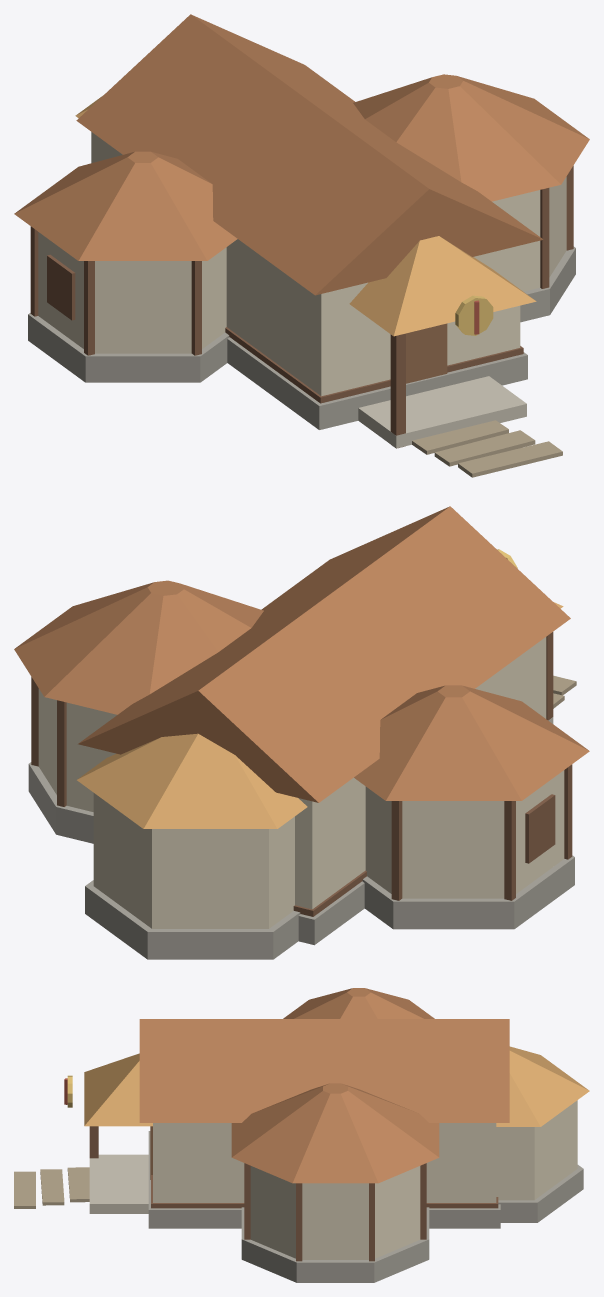
Rendered from C_three_roads.glb.
3 views of the same model, one above another, from view 1: azimuth 30°, elevation 25°; view 2: azimuth 150°, elevation 25°; view 3: azimuth 270°, elevation 25° (orthographic). The views are drawn at different scales.
Visible parts, largest first — view 1: C_CentralNave_GableRoof, C_CentralNave_Plaster, C_ProvisionBay_HippedRoof, C_RecordsBay_HippedRoof, C_RecordsBay_Plaster, C_DiamondEntryRoof, C_CentralNave_StoneBase, C_EntryPlinth, C_RecordsBay_StoneBase, C_ProvisionBay_Plaster, C_Arrival_Door, C_CentralNave_BaseBand (+12 smaller); view 2: C_CentralNave_GableRoof, C_TeachingApse, C_ProvisionBay_HippedRoof, C_RecordsBay_HippedRoof, C_RecordsBay_Plaster, C_TeachingApseRoof, C_CentralNave_Plaster, C_TeachingApseBase, C_RecordsBay_StoneBase, C_ProvisionBay_Plaster, C_ProvisionBay_StoneBase, C_CentralNave_StoneBase (+8 smaller); view 3: C_CentralNave_GableRoof, C_ProvisionBay_HippedRoof, C_CentralNave_Plaster, C_ProvisionBay_Plaster, C_TeachingApse, C_ProvisionBay_StoneBase, C_TeachingApseRoof, C_CentralNave_StoneBase, C_DiamondEntryRoof, C_EntryPlinth, C_RecordsBay_HippedRoof, C_TeachingApseBase (+8 smaller).
Part boxes in pixels (box(x1,y1,x2,y2)): C_CentralNave_GableRoof: box(76, 14, 543, 295); C_CentralNave_Plaster: box(99, 138, 520, 396); C_ProvisionBay_HippedRoof: box(353, 74, 589, 201); C_RecordsBay_HippedRoof: box(14, 151, 237, 260); C_RecordsBay_Plaster: box(38, 232, 226, 353); C_DiamondEntryRoof: box(349, 236, 536, 336); C_CentralNave_StoneBase: box(227, 337, 527, 429); C_EntryPlinth: box(358, 376, 526, 448); C_RecordsBay_StoneBase: box(28, 313, 229, 382); C_ProvisionBay_Plaster: box(492, 176, 566, 291); C_Arrival_Door: box(406, 323, 447, 383); C_CentralNave_BaseBand: box(225, 327, 523, 403); C_CentralNave_GableRoof: box(78, 506, 570, 802); C_TeachingApse: box(93, 793, 294, 928); C_ProvisionBay_HippedRoof: box(14, 580, 263, 714); C_RecordsBay_HippedRoof: box(354, 685, 589, 800); C_RecordsBay_Plaster: box(365, 770, 564, 898); C_TeachingApseRoof: box(77, 733, 307, 828); C_CentralNave_Plaster: box(102, 637, 546, 909); C_TeachingApseBase: box(85, 880, 300, 959); C_RecordsBay_StoneBase: box(362, 855, 574, 929); C_ProvisionBay_Plaster: box(38, 688, 116, 811); C_ProvisionBay_StoneBase: box(28, 762, 93, 843); C_CentralNave_StoneBase: box(298, 881, 364, 945); C_CentralNave_GableRoof: box(139, 1019, 509, 1122); C_ProvisionBay_HippedRoof: box(231, 1083, 439, 1183); C_CentralNave_Plaster: box(153, 1123, 496, 1202); C_ProvisionBay_Plaster: box(250, 1166, 420, 1259); C_TeachingApse: box(496, 1100, 577, 1200); C_ProvisionBay_StoneBase: box(241, 1207, 429, 1282); C_TeachingApseRoof: box(496, 1046, 589, 1126); C_CentralNave_StoneBase: box(148, 1131, 500, 1228); C_DiamondEntryRoof: box(84, 1053, 152, 1126); C_EntryPlinth: box(89, 1154, 148, 1213); C_RecordsBay_HippedRoof: box(283, 988, 434, 1018); C_TeachingApseBase: box(498, 1165, 583, 1222).
Size of the model in its own units: 14.35 by 6.02 by 18.45.
